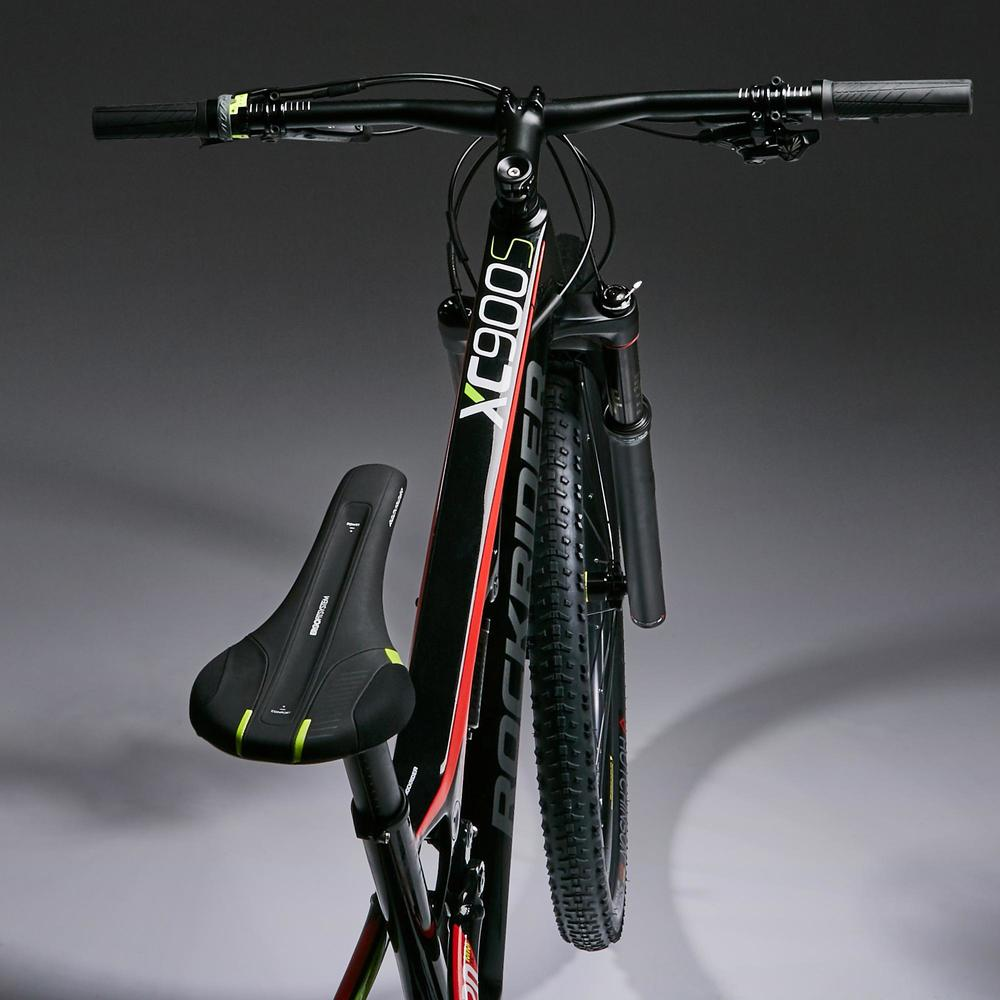MountainBike: (83, 54, 986, 987)
